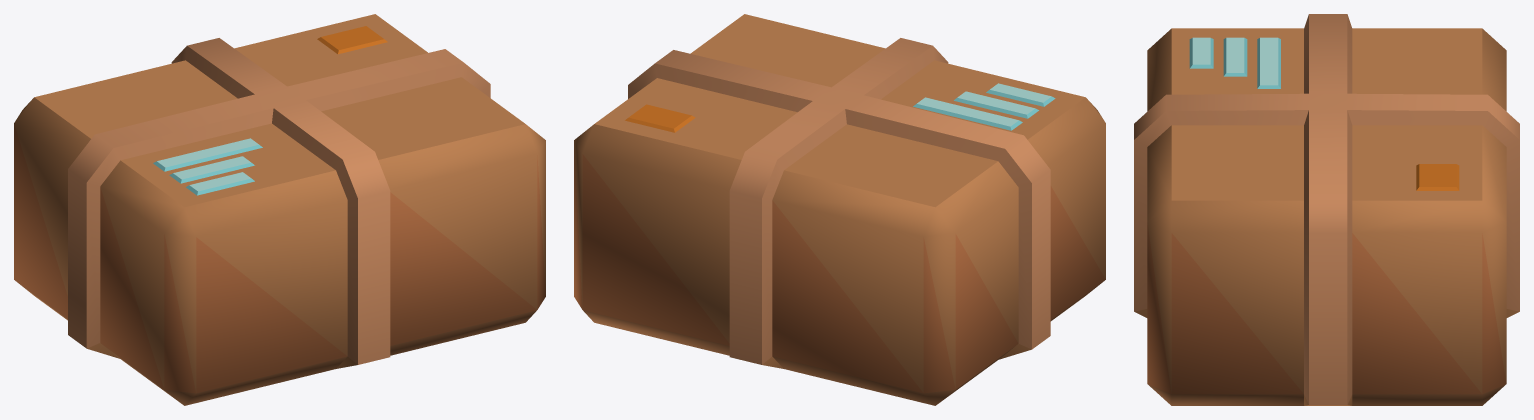
File: itch_tiny_homely_house_package.glb
3 renders of one model, left to right at view 1: azimuth 30°, elevation 25°; view 2: azimuth 150°, elevation 25°; view 3: azimuth 270°, elevation 25°, orthographic. The views are drawn at different scales.
Parts seen in each view (by area): view 1: package; view 2: package; view 3: package.
Part boxes in pixels (box(x1,y1,x2,y2)): package: box(14, 14, 545, 405); package: box(574, 14, 1105, 405); package: box(1134, 14, 1519, 405).
Size of the model in its own units: 1.18 by 0.59 by 0.944.
